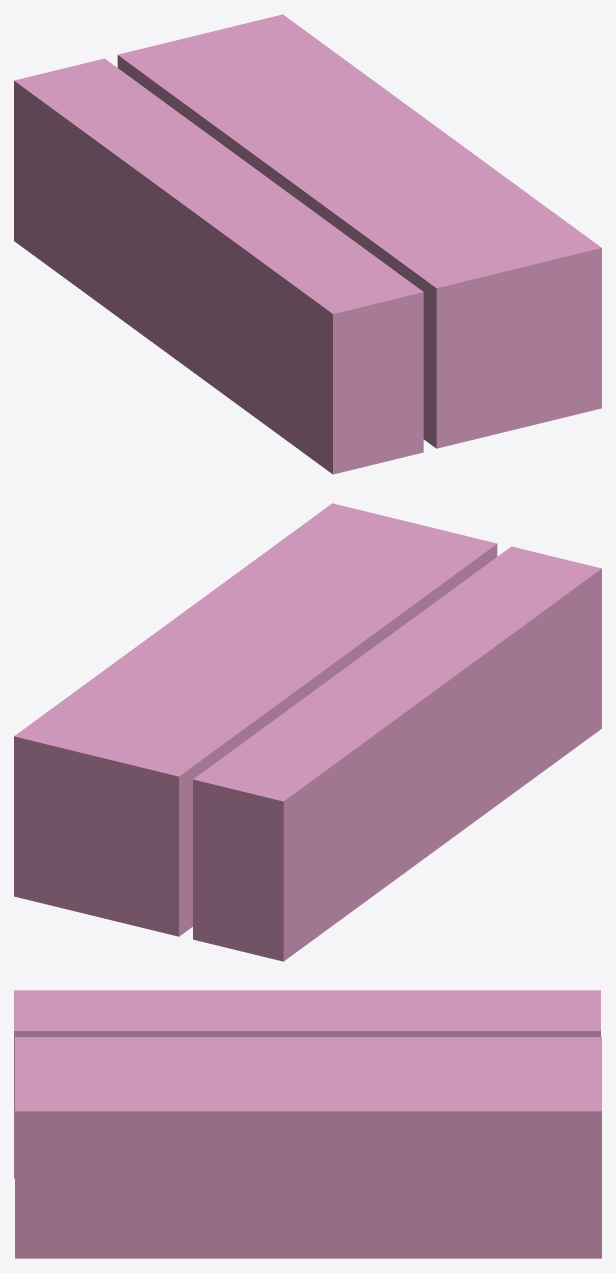
Rendered from WallBlock1.fbx.
3 renders of one model, top to bottom at view 1: azimuth 30°, elevation 25°; view 2: azimuth 150°, elevation 25°; view 3: azimuth 270°, elevation 25°, orthographic. The views are drawn at different scales.
Parts seen in each view (by area): view 1: WallBlock1; view 2: WallBlock1; view 3: WallBlock1.
Boxes of the visible parts, box(x1,y1,x2,y2) form: WallBlock1: box(14, 14, 601, 474); WallBlock1: box(14, 503, 601, 961); WallBlock1: box(14, 990, 601, 1258).
Bounding box in the file's own units: 244 × 139 × 501.
